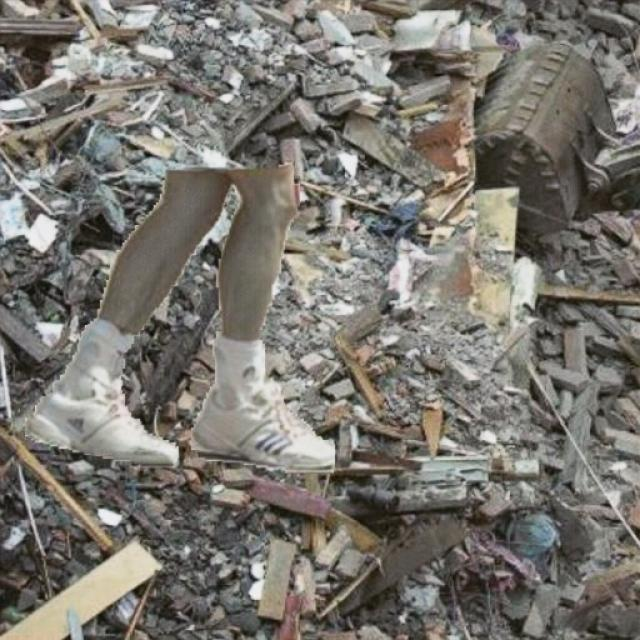Person in Rubble: (25, 162, 334, 472)
